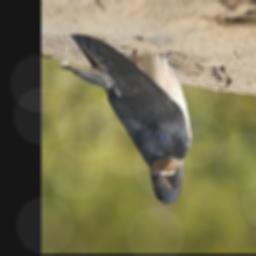Swallow: (55, 36, 192, 205)
